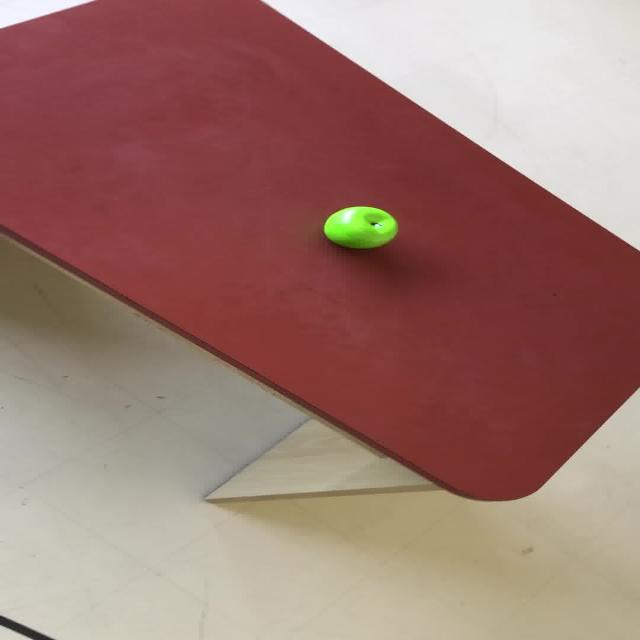apple: (321, 205, 398, 249)
